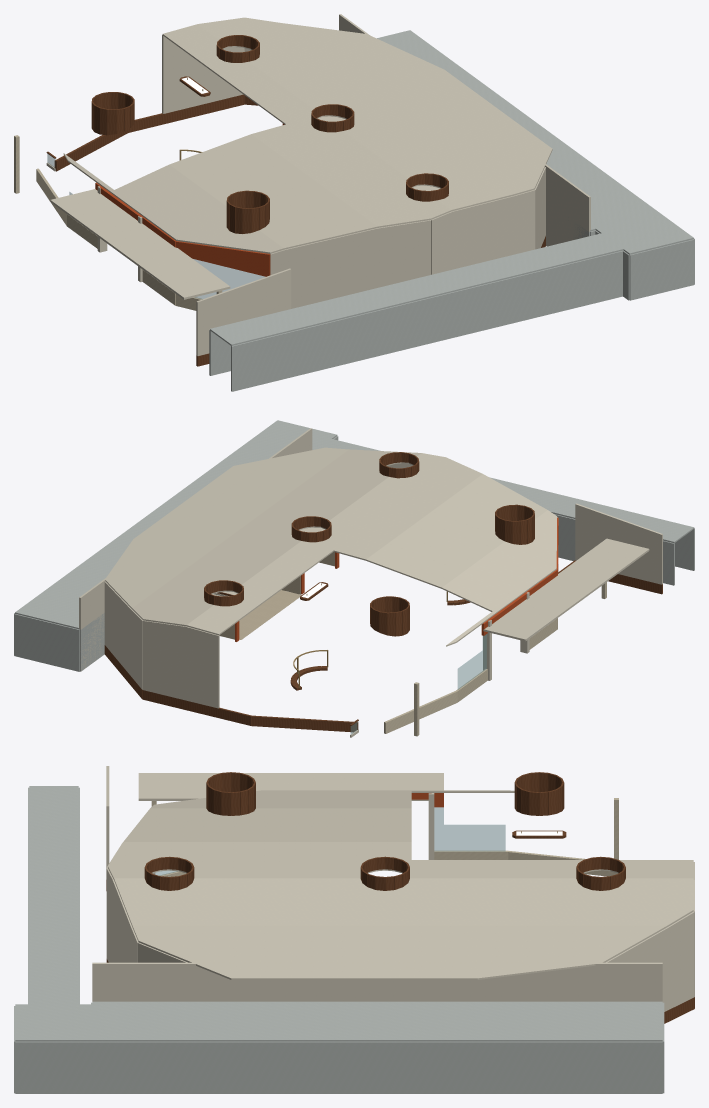
The model's file is Retail_receiving_successor.glb.
3 views of the same model, one above another, from view 1: azimuth 30°, elevation 25°; view 2: azimuth 150°, elevation 25°; view 3: azimuth 270°, elevation 25° (orthographic). The views are drawn at different scales.
Parts seen in each view (by area): view 1: TAIL_StaffOuter_6, TAIL_PublicCeiling_105, TAIL_PromenadeCanopy, TAIL_PublicWall_22_1, TAIL_PublicCeiling_101, TAIL_ServiceCeiling_4, TAIL_ServiceCeiling_1, TAIL_PublicCeiling_102, TAIL_PublicCeiling_71, TAIL_ServiceCeiling_3, TAIL_PublicWall_20, TAIL_PublicWall_23_1 (+30 smaller); view 2: TAIL_PublicCeiling_105, TAIL_PromenadeCanopy, TAIL_ServiceCeiling_3, TAIL_PublicCeiling_101, TAIL_PublicCeiling_102, TAIL_PublicCeiling_41, TAIL_PublicWall_20, TAIL_PublicCeiling_71, TAIL_PublicWall_15_0, TAIL_PublicCeiling_1, TAIL_PublicCeiling_40, TAIL_StaffOuter_12 (+30 smaller); view 3: TAIL_StaffOuter_11, TAIL_PublicCeiling_105, TAIL_ServiceCeiling_3, TAIL_ServiceCeiling_0, TAIL_PublicCeiling_101, TAIL_PublicCeiling_102, TAIL_ServiceCeiling_4, TAIL_ServiceCeiling_1, TAIL_UpperStaffScreen_4, TAIL_PromenadeCanopy, TAIL_PublicCeiling_71, TAIL_StaffOuter_9 (+32 smaller).
Part boxes in pixels (x1,y1,x2,y2): TAIL_StaffOuter_6: [231, 250, 623, 391]; TAIL_PublicCeiling_105: [280, 23, 513, 193]; TAIL_PromenadeCanopy: [50, 189, 230, 299]; TAIL_PublicWall_22_1: [284, 228, 377, 308]; TAIL_PublicCeiling_101: [280, 23, 512, 193]; TAIL_ServiceCeiling_4: [231, 233, 623, 345]; TAIL_ServiceCeiling_1: [210, 233, 599, 345]; TAIL_PublicCeiling_102: [445, 70, 552, 193]; TAIL_PublicCeiling_71: [251, 101, 376, 225]; TAIL_ServiceCeiling_3: [377, 30, 651, 206]; TAIL_PublicWall_20: [196, 268, 291, 355]; TAIL_PublicWall_23_1: [452, 196, 514, 269]; TAIL_PublicCeiling_105: [132, 450, 347, 607]; TAIL_PromenadeCanopy: [483, 538, 649, 641]; TAIL_ServiceCeiling_3: [15, 448, 239, 629]; TAIL_PublicCeiling_101: [133, 450, 348, 607]; TAIL_PublicCeiling_102: [134, 449, 347, 538]; TAIL_PublicCeiling_41: [408, 474, 494, 582]; TAIL_PublicWall_20: [575, 503, 662, 584]; TAIL_PublicCeiling_71: [303, 474, 481, 573]; TAIL_PublicWall_15_0: [142, 620, 186, 700]; TAIL_PublicCeiling_1: [442, 541, 556, 598]; TAIL_PublicCeiling_40: [366, 474, 482, 576]; TAIL_StaffOuter_12: [14, 614, 79, 671]; TAIL_StaffOuter_11: [108, 1041, 662, 1093]; TAIL_PublicCeiling_105: [133, 925, 666, 978]; TAIL_ServiceCeiling_3: [108, 1001, 662, 1041]; TAIL_ServiceCeiling_0: [93, 1001, 649, 1039]; TAIL_PublicCeiling_101: [135, 891, 664, 925]; TAIL_PublicCeiling_102: [133, 926, 477, 979]; TAIL_ServiceCeiling_4: [29, 787, 78, 1004]; TAIL_ServiceCeiling_1: [29, 786, 78, 1003]; TAIL_UpperStaffScreen_4: [92, 962, 238, 1001]; TAIL_PromenadeCanopy: [138, 773, 443, 800]; TAIL_PublicCeiling_71: [125, 842, 485, 866]; TAIL_StaffOuter_9: [15, 1041, 92, 1093].
Size of the model in its own units: 39.09 by 8.26 by 44.18.
Materials: 11 (9 with a texture image).
